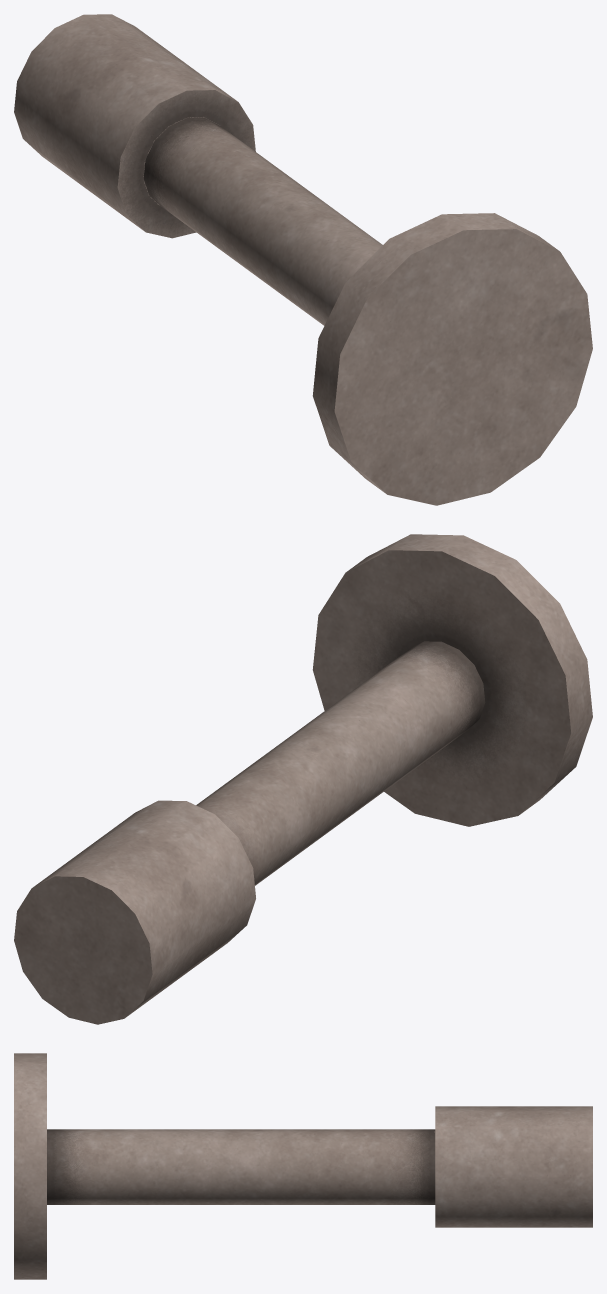
Rendered from _PipeBottom.fbx.
3 renders of one model, top to bottom at view 1: azimuth 30°, elevation 25°; view 2: azimuth 150°, elevation 25°; view 3: azimuth 270°, elevation 25°, orthographic. The views are drawn at different scales.
Visible parts, largest first — view 1: PipeBottom.001; view 2: PipeBottom.001; view 3: PipeBottom.001.
Part boxes in pixels (x1=…): PipeBottom.001: x1=14, y1=14, x2=592, y2=505; PipeBottom.001: x1=14, y1=534, x2=592, y2=1024; PipeBottom.001: x1=14, y1=1053, x2=592, y2=1279.
Bounding box in the file's own units: 2705 × 2690 × 6897.
